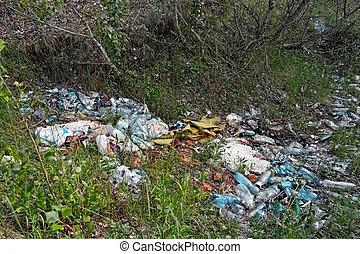garbage: (33, 78, 342, 227)
